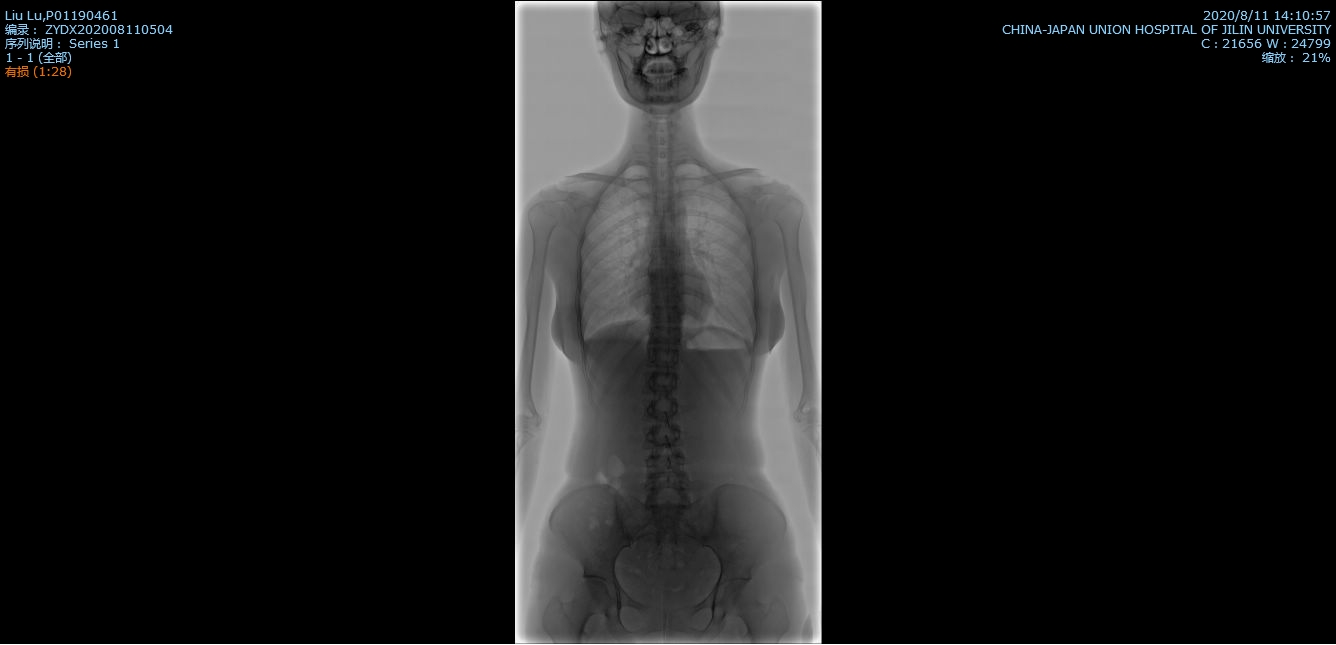Bone: (647, 485, 686, 506), (645, 457, 684, 477), (648, 426, 680, 448), (645, 401, 678, 418), (648, 349, 677, 368), (648, 376, 678, 394), (650, 306, 680, 323), (649, 271, 681, 286), (650, 251, 680, 267), (650, 327, 679, 343), (651, 290, 680, 304)
